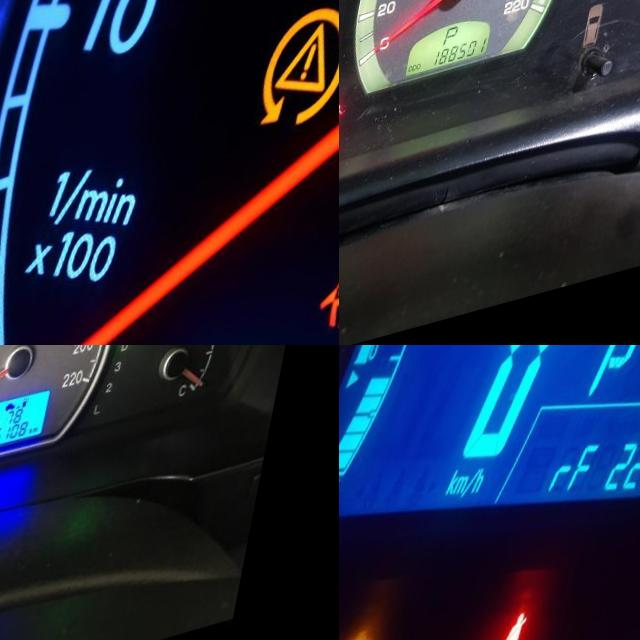Doors: (342, 116, 359, 139)
